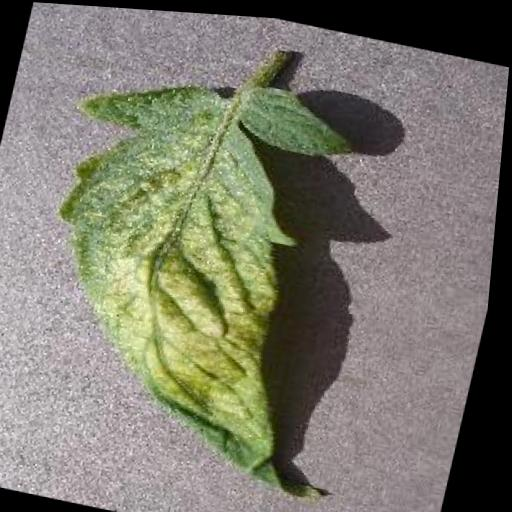Spider Mites: (7, 49, 417, 505)
